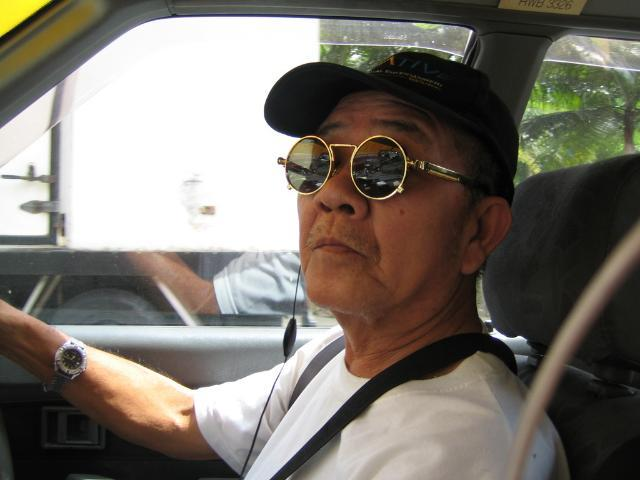Seatbelt: (269, 354, 519, 479)
